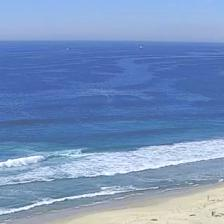surfer: (25, 155, 29, 157)
